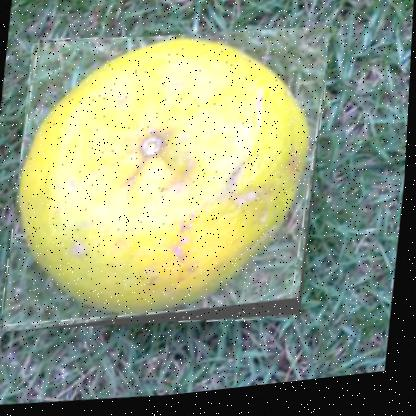orange_rotten: (4, 17, 331, 347)
